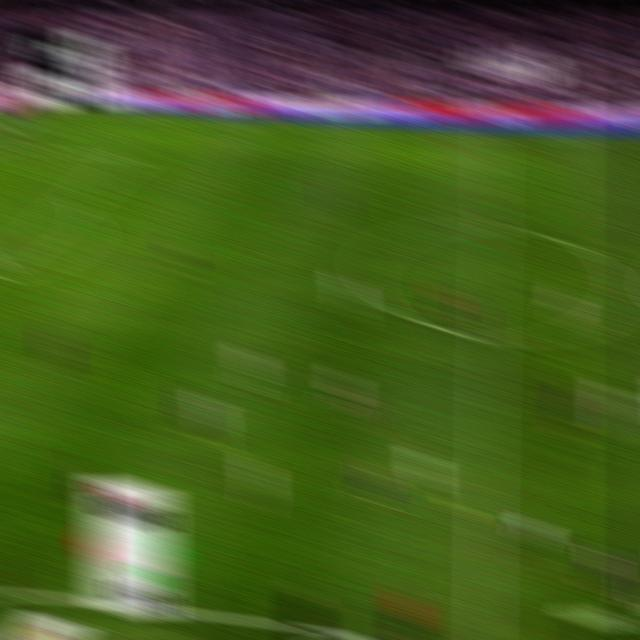bigarea_top_inner: (116, 146, 139, 166)
corner: (26, 101, 48, 113)
halfcircle_bottom: (474, 321, 502, 352)
halfcircle_top: (476, 211, 504, 240)
midline_top_intersection: (480, 125, 504, 144)
top_arc_area_intersection: (62, 192, 87, 213)
